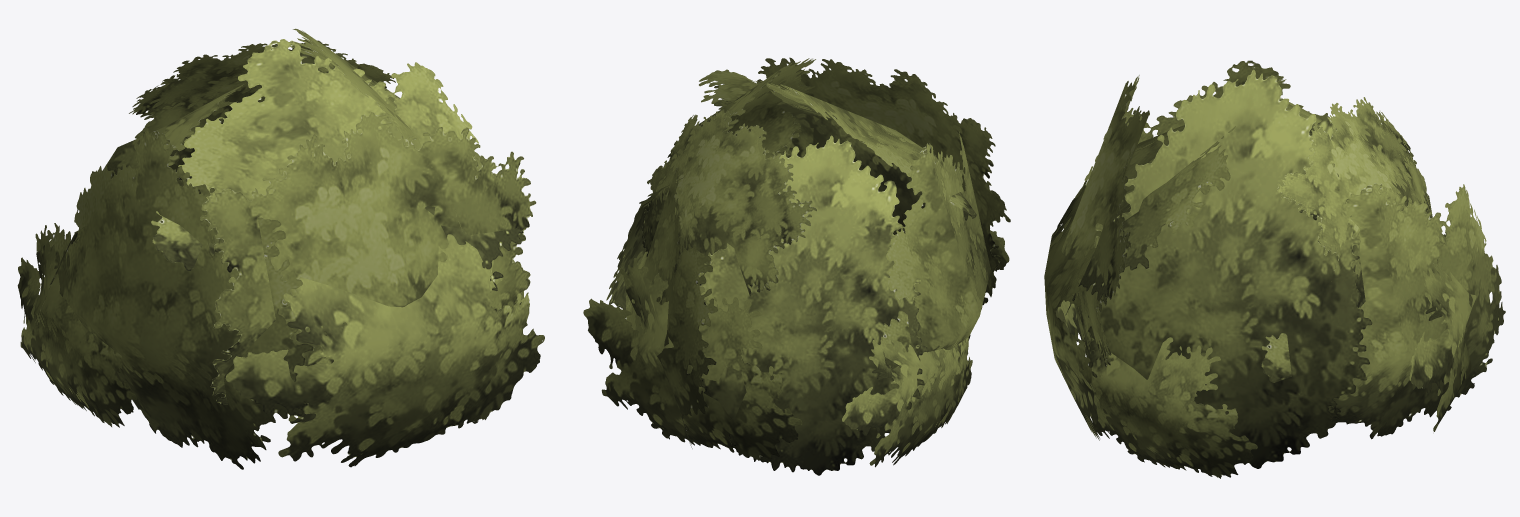
The model's file is SM_Bush_01.fbx.
3 views of the same model, side by side, from view 1: azimuth 30°, elevation 25°; view 2: azimuth 150°, elevation 25°; view 3: azimuth 270°, elevation 25° (orthographic). The views are drawn at different scales.
Visible parts, largest first — view 1: SM_Bush_01; view 2: SM_Bush_01; view 3: SM_Bush_01.
Boxes of the visible parts, x1,y1,x2,y2 form: SM_Bush_01: (17,28,544,469); SM_Bush_01: (583,57,1010,475); SM_Bush_01: (1044,60,1505,478).
Bounding box in the file's own units: 123 × 120 × 130.
4 materials, 4 textured.
